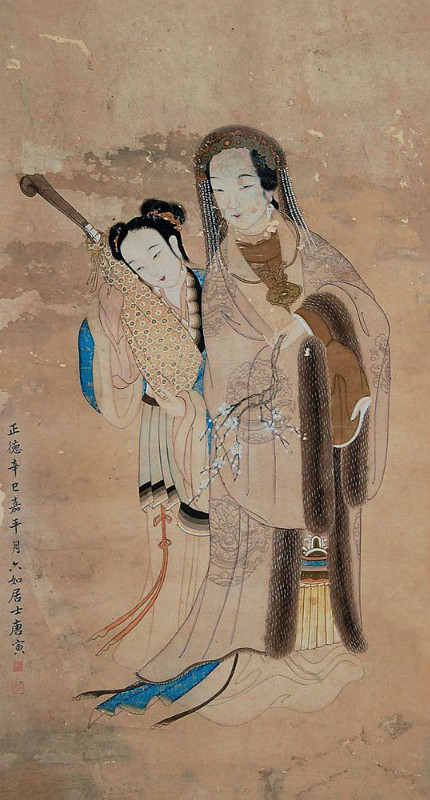guqin: (133, 294, 182, 371), (24, 177, 90, 233), (99, 254, 132, 334), (148, 369, 205, 394)
woman: (211, 144, 362, 695), (137, 411, 211, 694), (123, 220, 203, 294), (88, 343, 139, 425)
